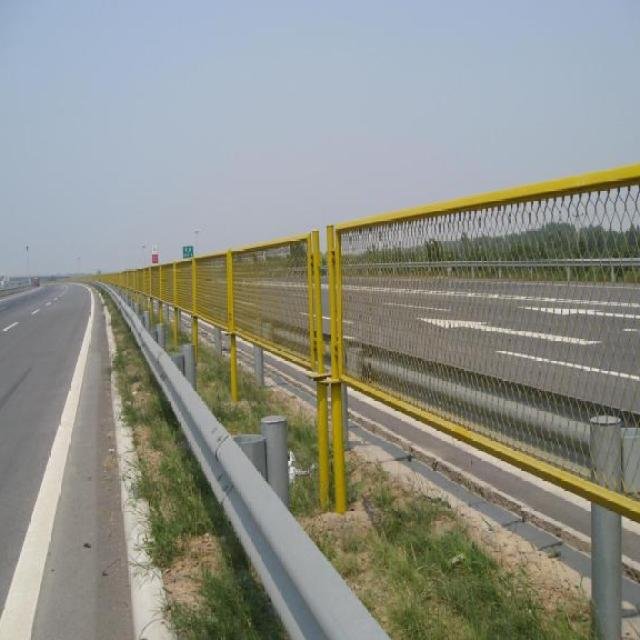Guard rail: (93, 282, 391, 640)
